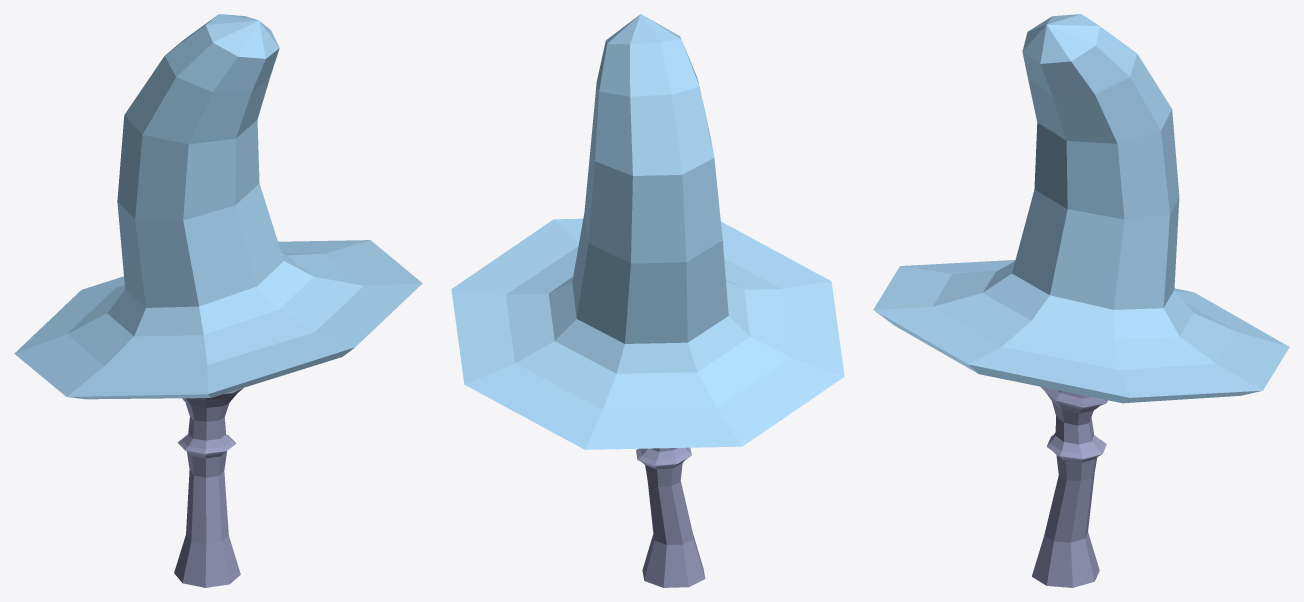
The model's file is Tree_09_Var_03.fbx.
The picture shows the model from 3 angles, left to right: view 1: azimuth 30°, elevation 25°; view 2: azimuth 150°, elevation 25°; view 3: azimuth 270°, elevation 25°; orthographic projection. The views are drawn at different scales.
Visible parts, largest first — view 1: Tree_09_Var_03; view 2: Tree_09_Var_03; view 3: Tree_09_Var_03.
Part boxes in pixels (x1=…): Tree_09_Var_03: x1=14, y1=14, x2=422, y2=587; Tree_09_Var_03: x1=451, y1=14, x2=844, y2=587; Tree_09_Var_03: x1=873, y1=14, x2=1289, y2=587.
Bounding box in the file's own units: 2.74 × 4.14 × 2.76.
